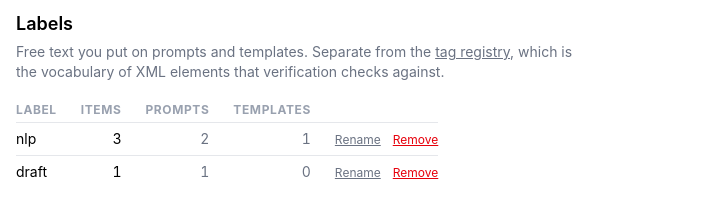
Labels › asks before removing, and says how many items it touches
The image size is (725, 217).
What coordinates should you click on to do the following:
click the button with aria-label "Remove nlp"
I would click on:
 (416, 140)
Its box is top-left (393, 132), bottom-right (438, 148).
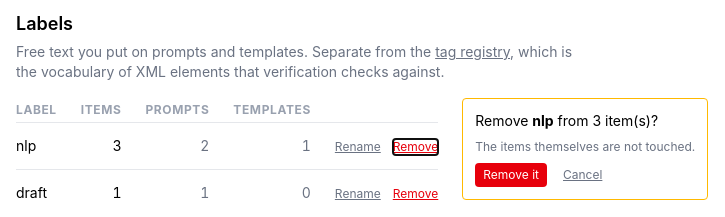
Check: the text "Remove nlp from 3 item(s)?" is shown, box top-left (475, 112), bottom-right (658, 129)
Check: the text "The items themselves are not touched." is shown, box top-left (475, 139), bottom-right (695, 155)
